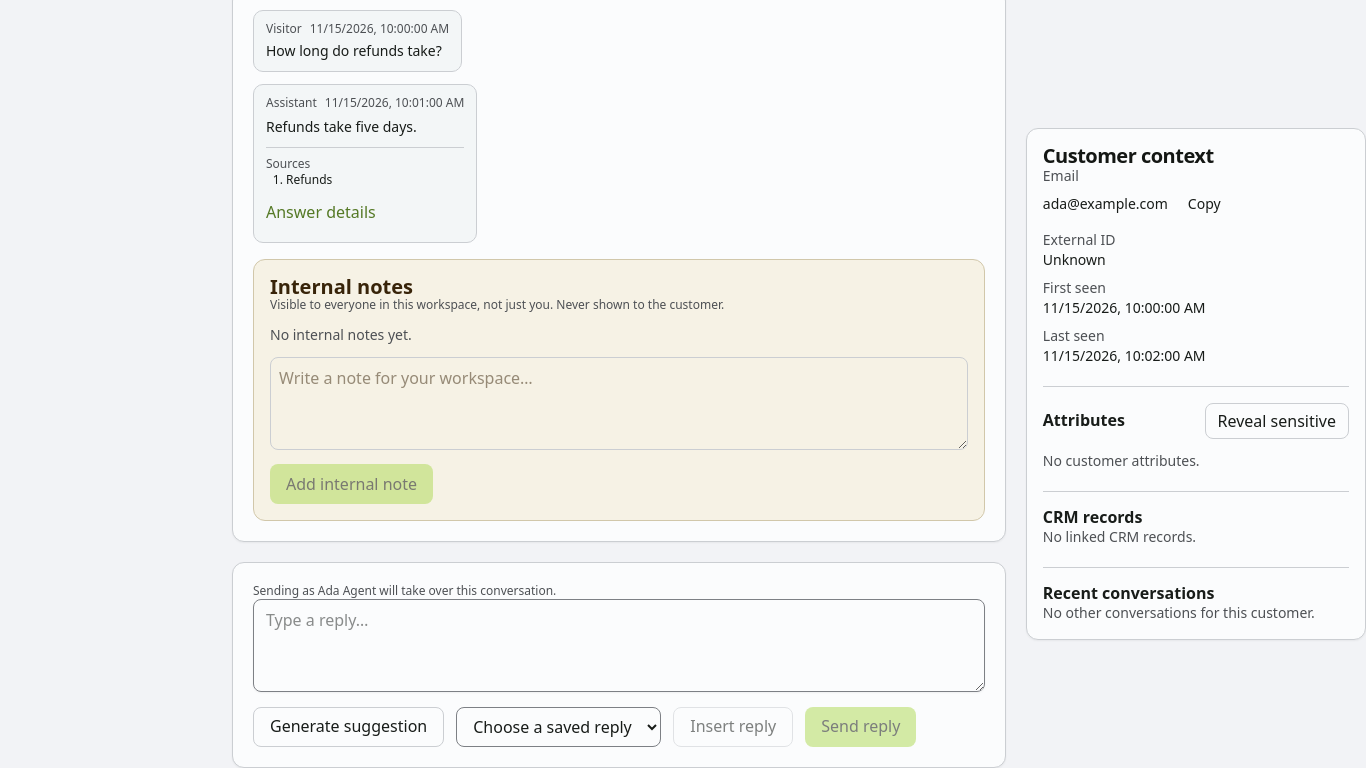
ConversationDetail › blocks inserting a suggestion when newer messages make it stale
(page scrolled)
Click the button "Generate suggestion" at [349, 727], box [253,707,444,747]
(page scrolled)
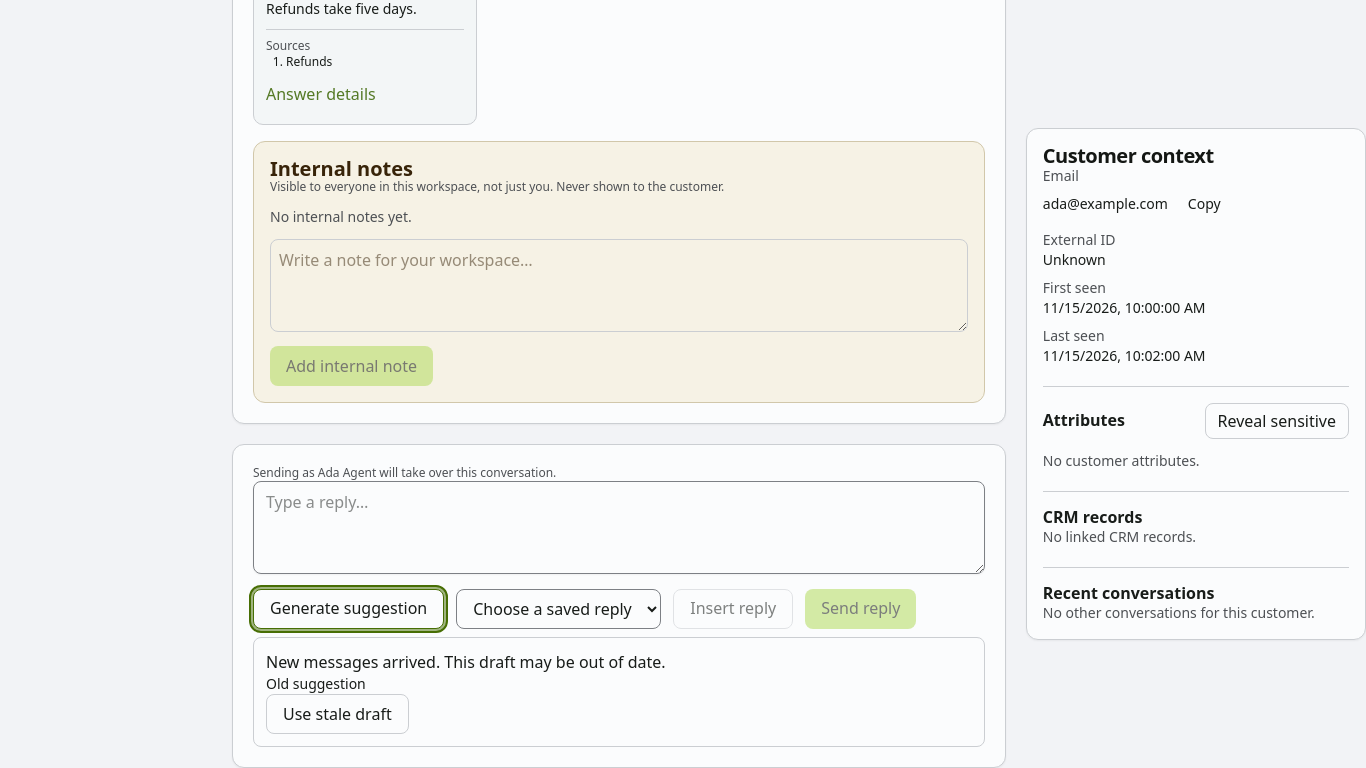
Now the text "New messages arrived. This draft may be out of date." is shown, box [266,651,666,673]
Click the button "Use stale draft" at [337, 714], box [266,694,409,734]
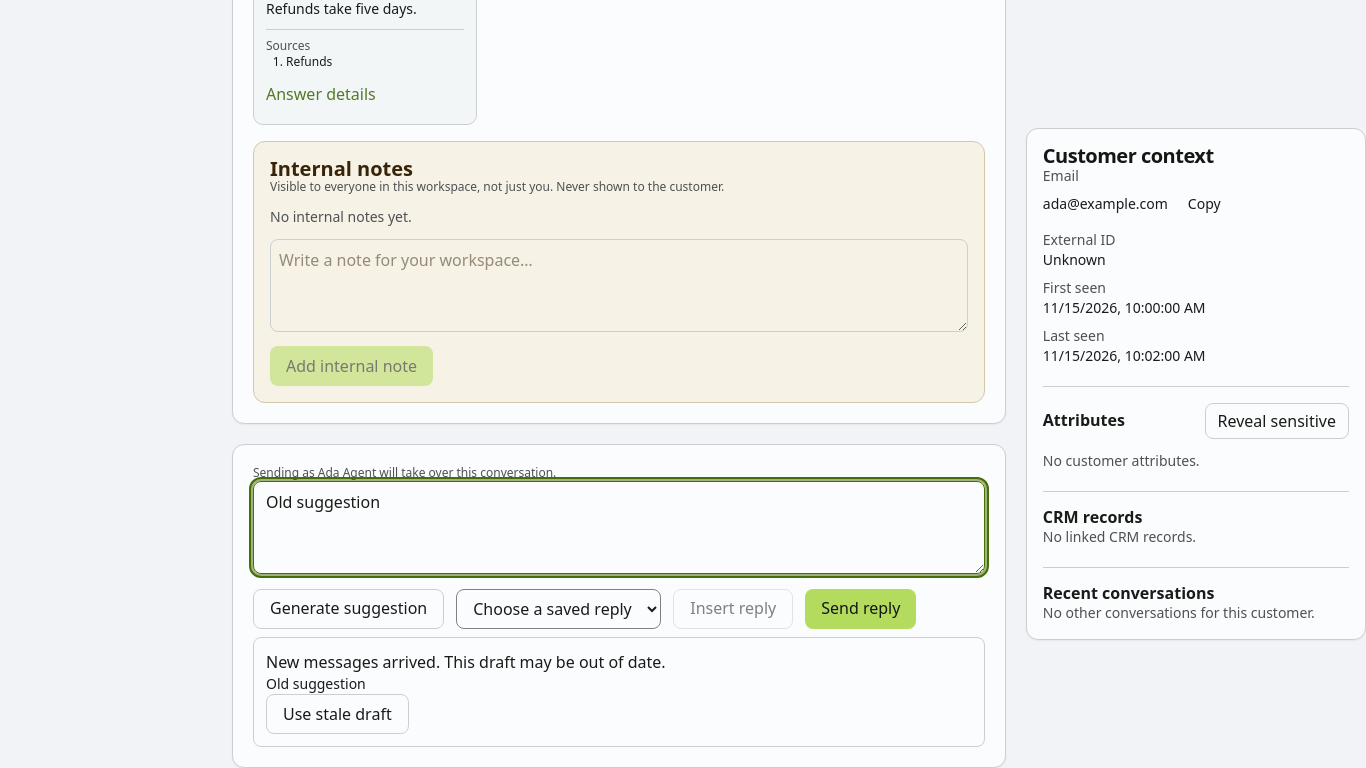
Now the text box named "Reply to the visitor" holds "Old suggestion", box [253,482,985,574]
